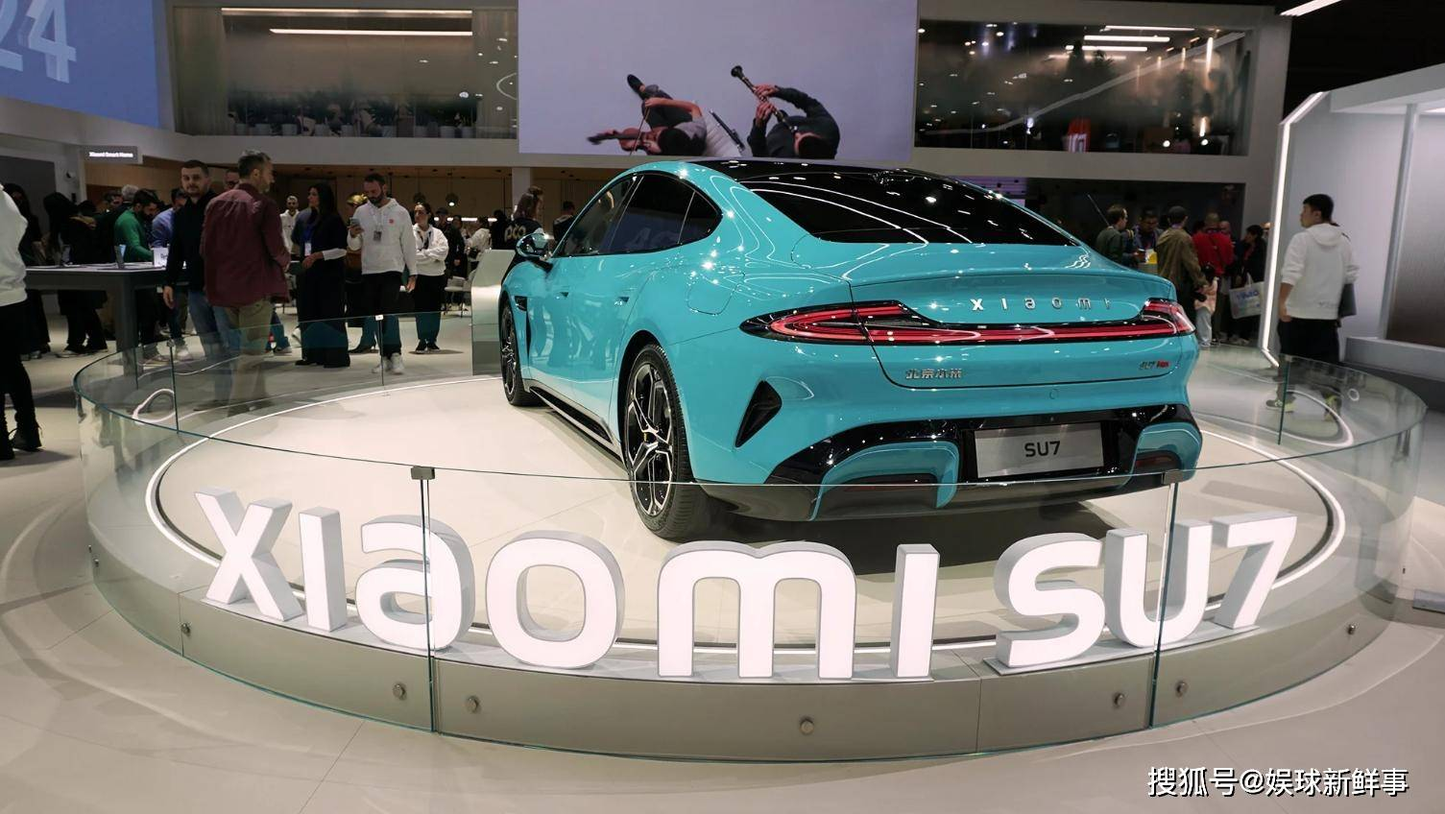su7: (494, 156, 1203, 517)
